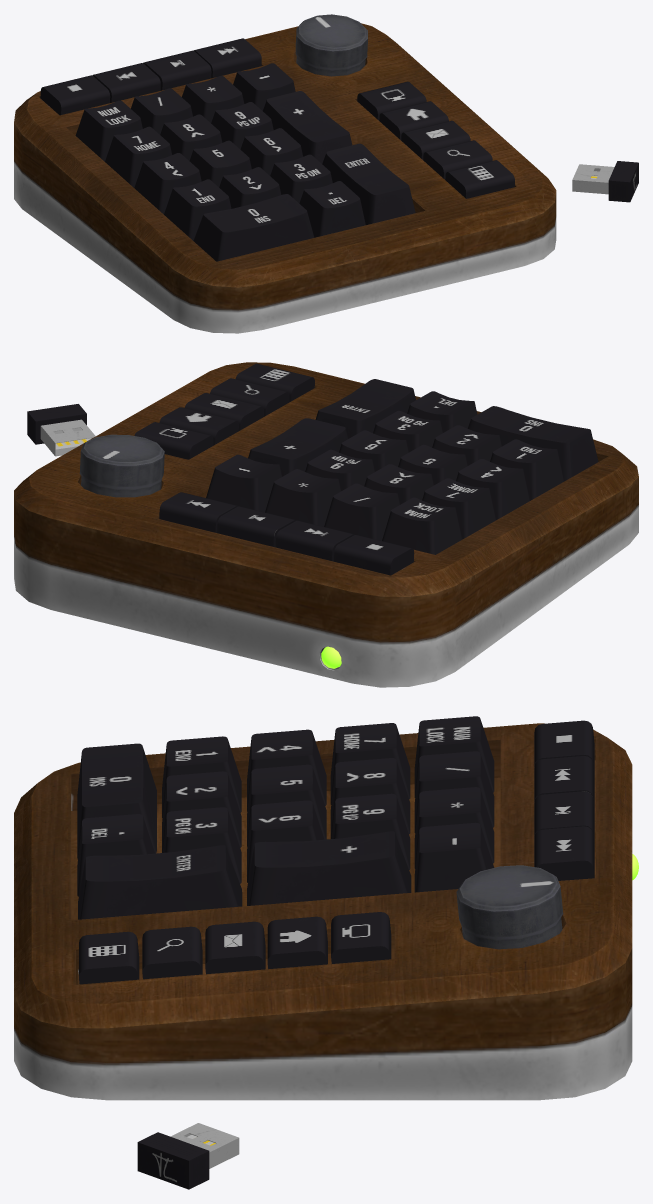
The picture shows the model from 3 angles, top to bottom: view 1: azimuth 30°, elevation 25°; view 2: azimuth 150°, elevation 25°; view 3: azimuth 270°, elevation 25°; orthographic projection. The views are drawn at different scales.
Parts seen in each view (by area): view 1: base_low, tecla_grande_low_03, tecla_grande_low_02, volume_low, tecla_grande_low_01, tecla_pequena_low_14, tecla_pequena_low_04, tecla_pequena_low_01, tecla_pequena_low_07, tecla_pequena_low_10, tecla_media_low_09, tecla_media_low_01 (+18 smaller); view 2: base_low, volume_low, tecla_grande_low_03, tecla_pequena_low_10, tecla_grande_low_02, tecla_grande_low_01, tecla_pequena_low_12, tecla_pequena_low_13, tecla_pequena_low_11, tecla_pequena_low_01, tecla_pequena_low_07, tecla_pequena_low_04 (+18 smaller); view 3: base_low, tecla_grande_low_01, tecla_grande_low_02, volume_low, tecla_grande_low_03, tecla_pequena_low_13, tecla_pequena_low_03, tecla_pequena_low_09, usb_01_low, tecla_pequena_low_14, tecla_pequena_low_11, tecla_pequena_low_08 (+18 smaller).
Part boxes in pixels (<box>): base_low: <box>14,23,556,333</box>; tecla_grande_low_03: <box>193,194,314,261</box>; tecla_grande_low_02: <box>322,143,415,225</box>; volume_low: <box>295,14,367,76</box>; tecla_grande_low_01: <box>263,91,352,163</box>; tecla_pequena_low_14: <box>299,181,365,237</box>; tecla_pequena_low_04: <box>134,153,201,214</box>; tecla_pequena_low_01: <box>164,179,231,240</box>; tecla_pequena_low_07: <box>105,126,172,187</box>; tecla_pequena_low_10: <box>75,100,142,161</box>; tecla_media_low_09: <box>40,75,110,115</box>; tecla_media_low_01: <box>445,160,514,198</box>; base_low: <box>14,362,638,687</box>; volume_low: <box>79,434,164,497</box>; tecla_grande_low_03: <box>467,406,598,481</box>; tecla_pequena_low_10: <box>382,497,462,554</box>; tecla_grande_low_02: <box>315,379,415,438</box>; tecla_grande_low_01: <box>248,418,348,476</box>; tecla_pequena_low_12: <box>265,469,340,526</box>; tecla_pequena_low_13: <box>206,454,281,512</box>; tecla_pequena_low_11: <box>324,483,399,540</box>; tecla_pequena_low_01: <box>490,439,563,500</box>; tecla_pequena_low_07: <box>422,478,495,539</box>; tecla_pequena_low_04: <box>456,459,529,519</box>; base_low: <box>14,723,632,1100</box>; tecla_grande_low_01: <box>247,831,411,905</box>; tecla_grande_low_02: <box>78,845,242,919</box>; volume_low: <box>456,865,563,949</box>; tecla_grande_low_03: <box>77,743,156,859</box>; tecla_pequena_low_13: <box>414,822,494,892</box>; tecla_pequena_low_03: <box>162,807,241,883</box>; tecla_pequena_low_09: <box>331,793,410,869</box>; usb_01_low: <box>137,1132,209,1189</box>; tecla_pequena_low_14: <box>77,814,154,896</box>; tecla_pequena_low_11: <box>414,751,494,832</box>; tecla_pequena_low_08: <box>330,758,410,838</box>.
Size of the model in its own units: 5.41 by 1.26 by 4.14.
Materials: 2 (2 with a texture image).
